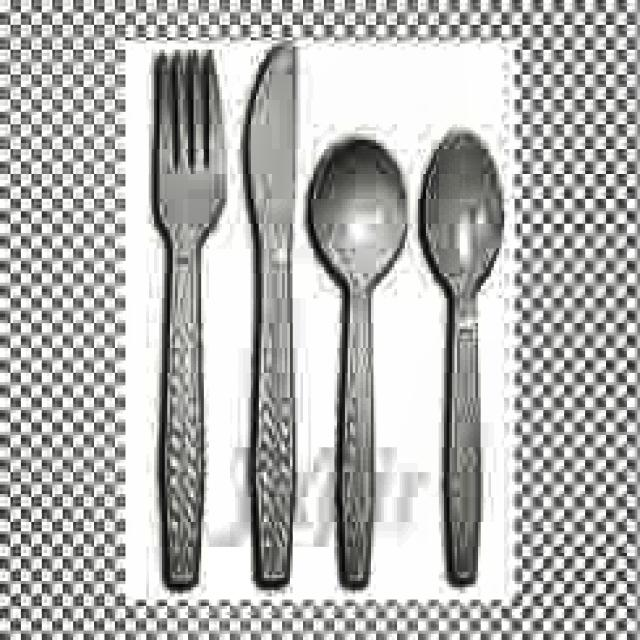plastic utensil: (309, 138, 409, 586), (419, 131, 504, 583), (155, 51, 225, 585), (246, 48, 294, 584)
